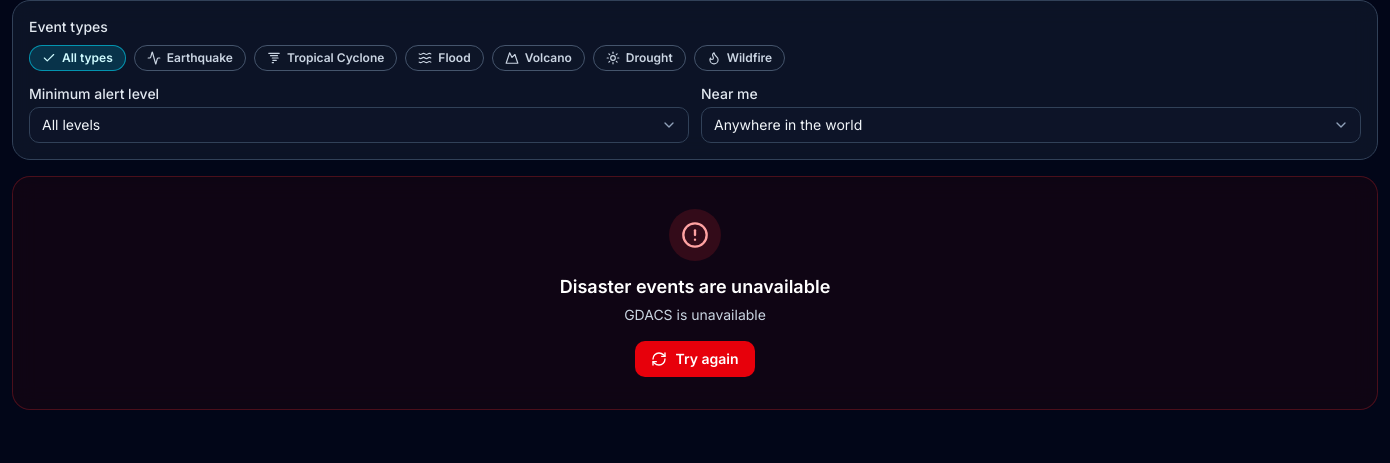
Test: DisasterEventsPanel › shows an ErrorState with retry
Expected: the heading "Disaster events are unavailable" is shown, [560,273,830,301]
Expected: the text "GDACS is unavailable" is shown, [624,306,766,323]
Step 1. Click the button "Try again" → x=695, y=359, box [636,341,755,377]
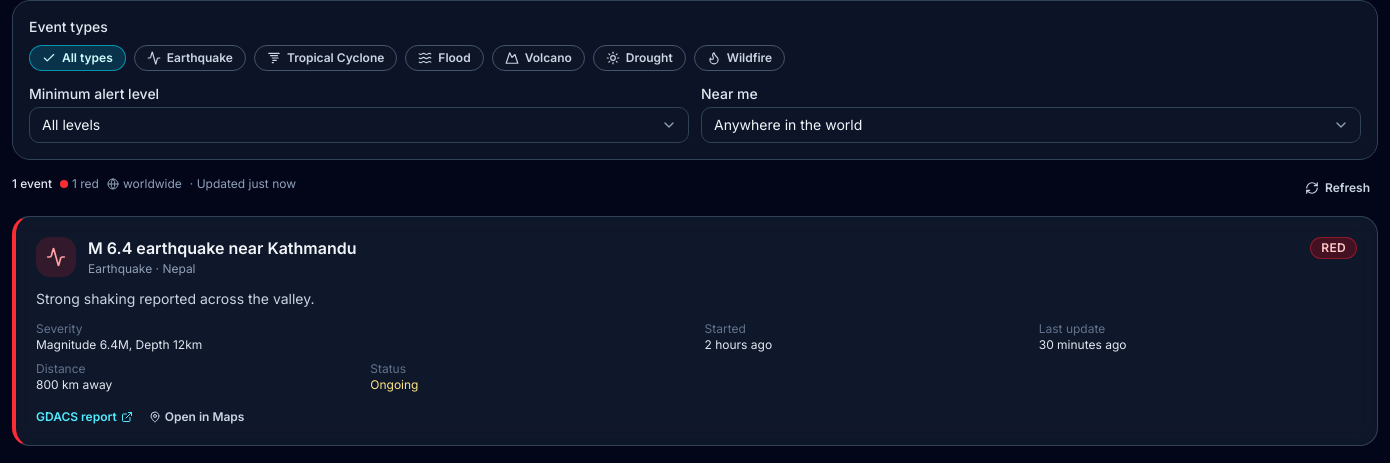
Result: the heading "M 6.4 earthquake near Kathmandu" is shown at [88,237,356,259]
